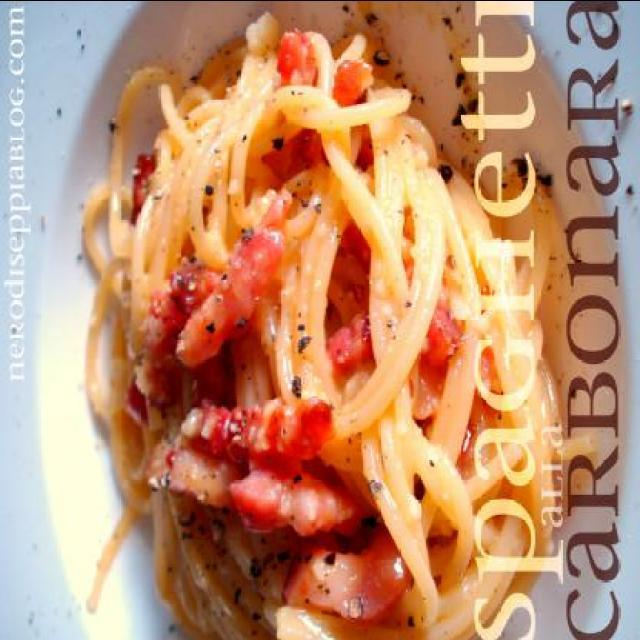Pasta with carbonara sauce: (82, 29, 498, 632)
